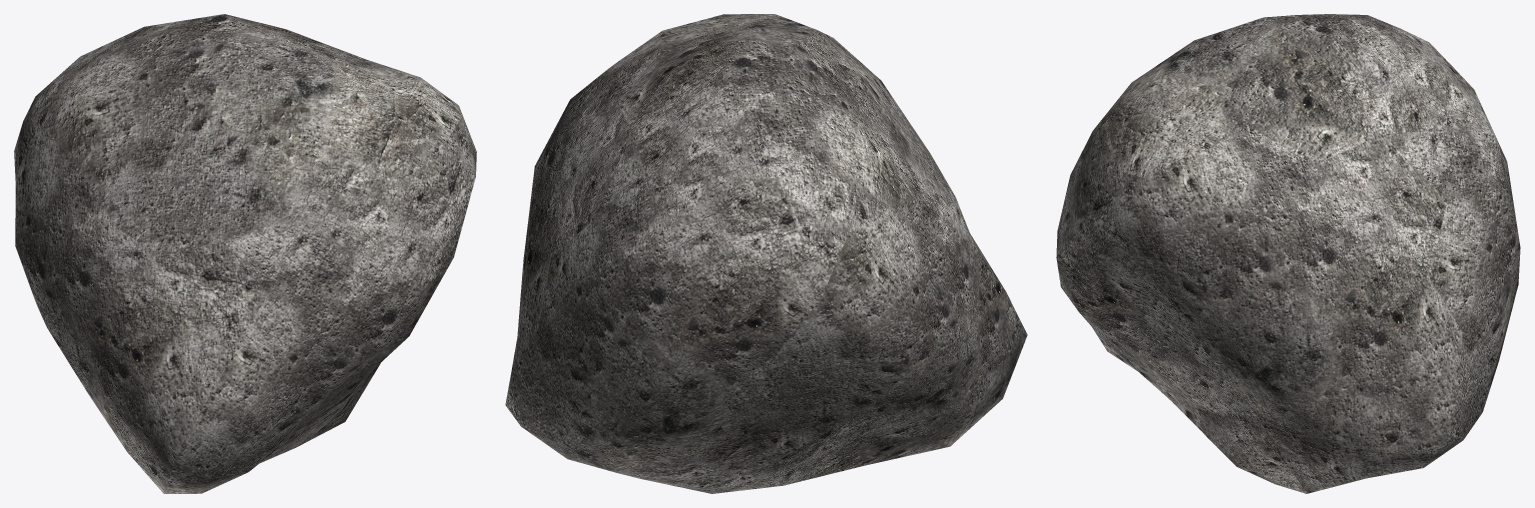
File: ast_upg_05.FBX
The picture shows the model from 3 angles, left to right: view 1: azimuth 30°, elevation 25°; view 2: azimuth 150°, elevation 25°; view 3: azimuth 270°, elevation 25°; orthographic projection. The views are drawn at different scales.
Visible parts, largest first — view 1: ast_upg_05; view 2: ast_upg_05; view 3: ast_upg_05.
Boxes of the visible parts, x1,y1,x2,y2 form: ast_upg_05: [14, 14, 476, 493]; ast_upg_05: [505, 14, 1027, 493]; ast_upg_05: [1056, 14, 1520, 493].
Size of the model in its own units: 76.84 by 78.47 by 76.56.
